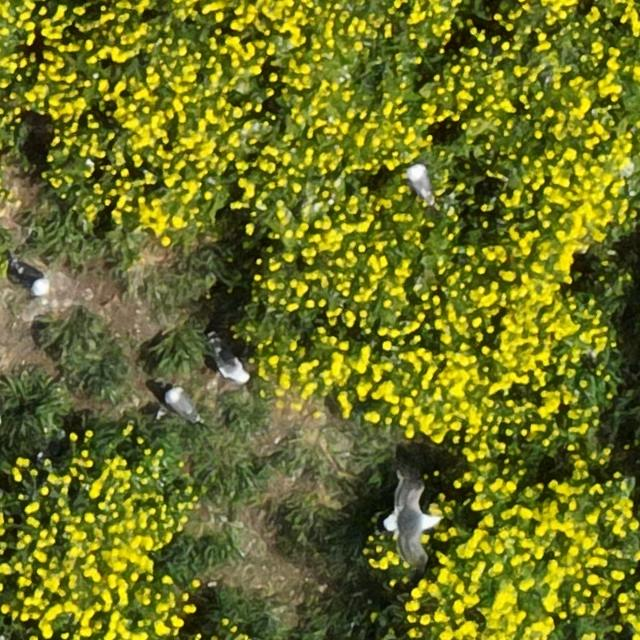F: (385, 479, 442, 566)
umineko: (216, 350, 247, 384), (15, 264, 48, 293), (166, 389, 196, 420), (408, 164, 431, 200)
